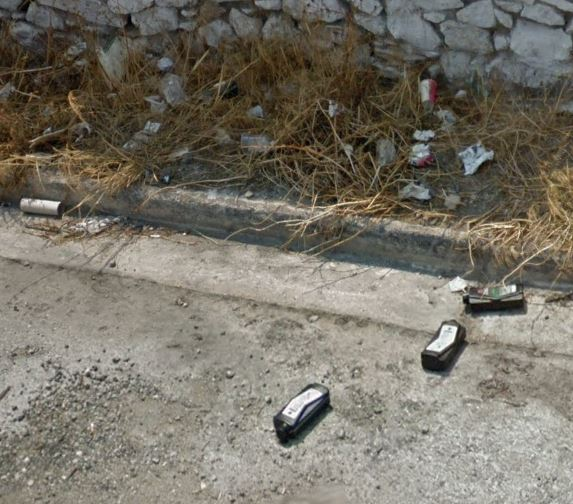trash: (333, 54, 500, 207), (151, 67, 289, 162), (269, 381, 332, 444), (457, 277, 534, 324), (417, 315, 474, 377), (10, 188, 71, 219)
